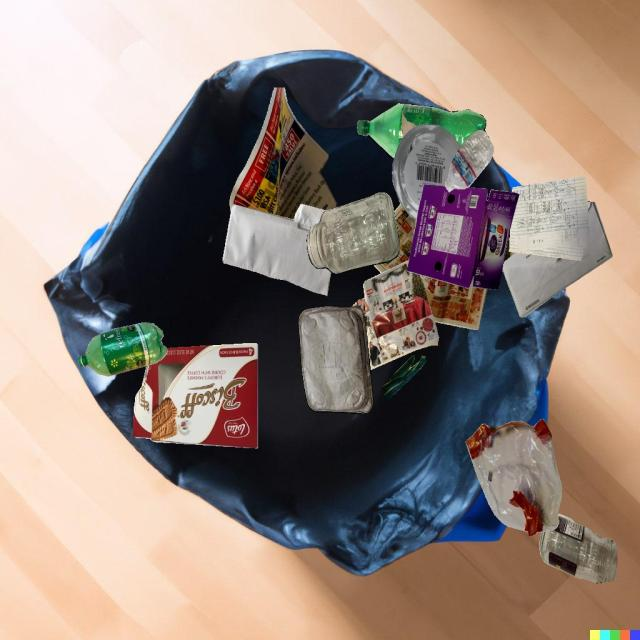biowaste: (382, 355, 426, 402)
cardboard: (133, 343, 258, 448), (408, 185, 519, 290)
glass: (307, 192, 399, 274), (540, 514, 618, 583), (402, 112, 416, 137), (504, 238, 516, 263)
metal: (299, 306, 374, 414)
paper: (230, 88, 338, 219), (502, 201, 612, 317), (222, 204, 331, 296), (352, 260, 439, 370), (509, 176, 590, 261), (421, 275, 487, 330), (373, 204, 416, 273)
plastic: (465, 419, 562, 537), (357, 103, 486, 159), (392, 124, 461, 220), (78, 322, 167, 376), (445, 130, 493, 192)
